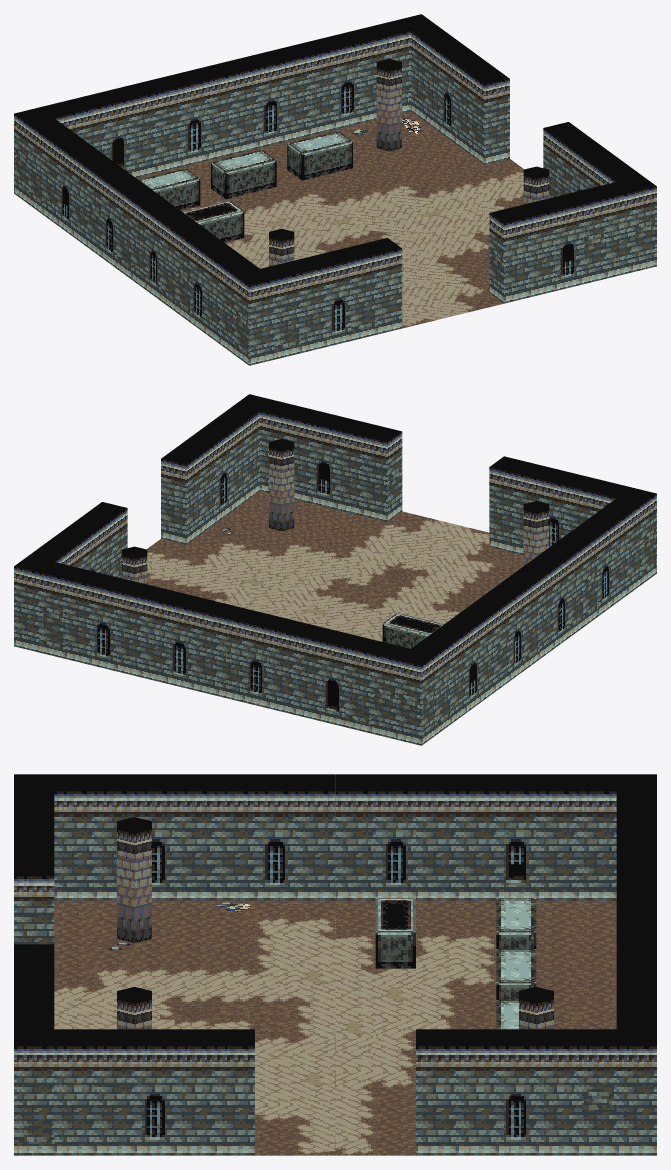
File: room-se-1-col.gltf
3 views of the same model, one above another, from view 1: azimuth 30°, elevation 25°; view 2: azimuth 150°, elevation 25°; view 3: azimuth 270°, elevation 25° (orthographic). The views are drawn at different scales.
Visible parts, largest first — view 1: room-se-1-col; view 2: room-se-1-col; view 3: room-se-1-col.
Part boxes in pixels (x1,y1,x2,y2): room-se-1-col: [14, 14, 656, 365]; room-se-1-col: [14, 394, 656, 745]; room-se-1-col: [14, 774, 656, 1155].
Bounding box in the file's own units: 16 × 3 × 16.
1 material, 1 textured.
